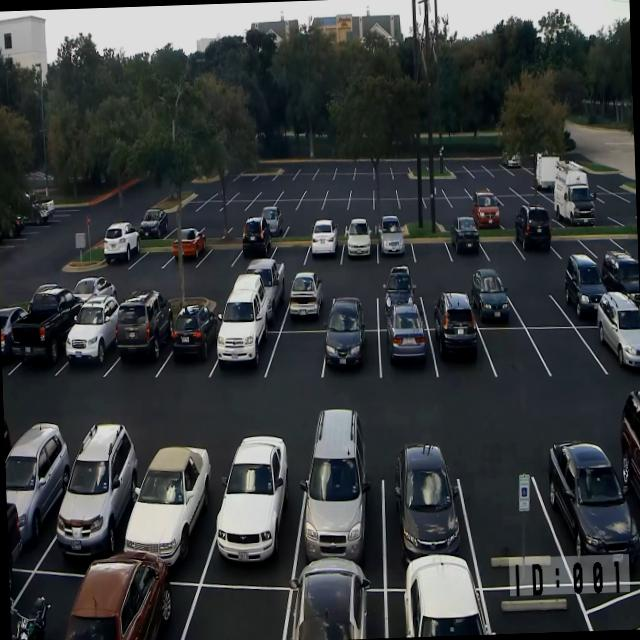car: (130, 441, 217, 575), (300, 448, 385, 584), (382, 456, 468, 588), (210, 454, 298, 578), (58, 434, 137, 562), (552, 446, 628, 564), (71, 562, 179, 640), (283, 582, 375, 640), (8, 564, 78, 640), (235, 263, 289, 328), (214, 328, 273, 387), (433, 327, 490, 387), (593, 312, 640, 382), (324, 330, 380, 386), (558, 264, 610, 324), (380, 329, 434, 386), (163, 331, 218, 386), (284, 266, 329, 329), (114, 334, 167, 384), (468, 274, 516, 329), (61, 337, 118, 382), (17, 335, 66, 381), (515, 218, 557, 267), (446, 217, 486, 267), (376, 278, 417, 326), (376, 221, 412, 268), (552, 192, 594, 232), (172, 231, 206, 271), (343, 228, 376, 269), (306, 232, 342, 268), (240, 226, 272, 266), (106, 240, 140, 272), (138, 216, 166, 242), (533, 173, 553, 194)
free: (462, 450, 558, 590), (165, 578, 284, 640), (530, 322, 597, 392), (484, 324, 544, 388), (268, 328, 326, 386), (416, 276, 474, 328), (324, 279, 380, 331), (510, 279, 562, 329), (410, 226, 450, 268), (482, 224, 520, 266), (550, 226, 590, 262), (134, 242, 171, 276), (203, 240, 241, 272), (272, 236, 308, 264), (586, 186, 612, 224), (496, 196, 526, 226), (526, 204, 556, 234), (452, 194, 477, 221), (346, 212, 374, 236), (508, 169, 534, 194), (318, 213, 347, 234), (411, 206, 438, 226), (522, 188, 545, 208), (248, 200, 274, 217), (379, 212, 402, 230), (326, 184, 351, 200), (299, 196, 324, 212), (442, 161, 466, 176), (277, 196, 299, 212), (373, 184, 396, 199), (350, 184, 374, 198), (202, 198, 226, 212), (397, 196, 418, 212), (225, 200, 250, 213), (443, 183, 466, 197), (395, 182, 416, 197), (430, 195, 450, 210), (235, 187, 258, 200), (491, 182, 512, 196), (256, 187, 278, 200), (180, 200, 202, 213), (467, 160, 488, 173), (296, 161, 316, 174), (416, 185, 436, 198), (489, 166, 510, 178), (235, 175, 256, 187), (354, 160, 374, 172), (314, 169, 334, 180), (256, 171, 276, 182), (389, 163, 409, 174), (332, 171, 353, 181), (277, 168, 297, 178), (352, 173, 373, 181), (373, 172, 393, 180)
